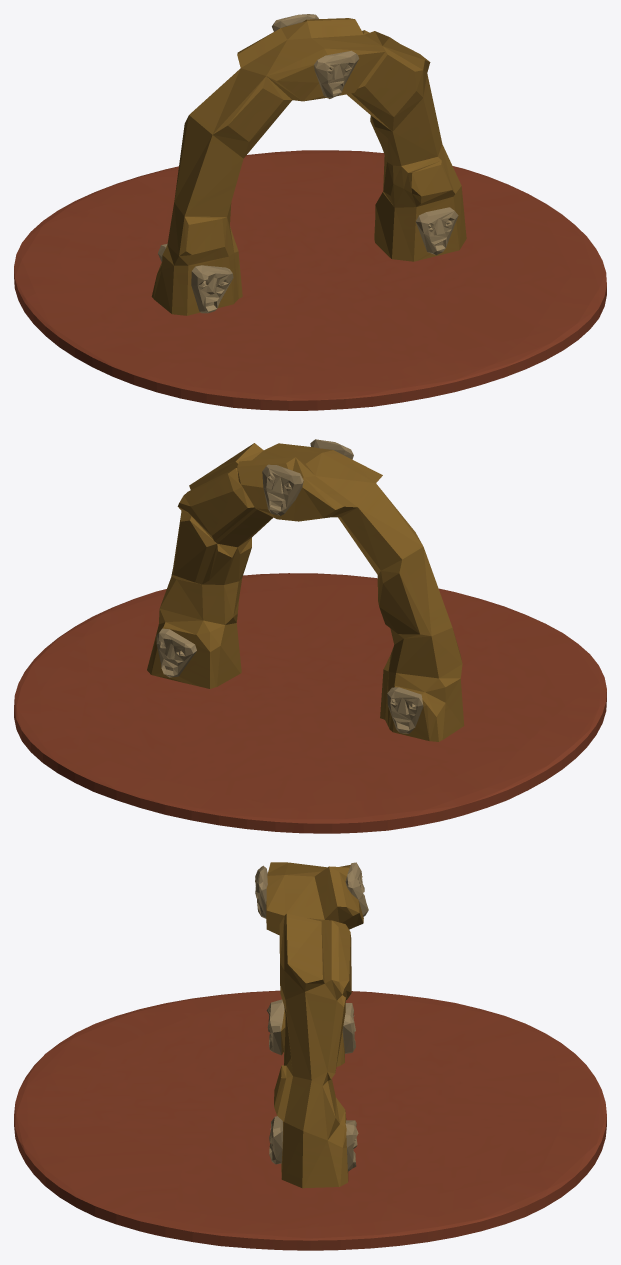
The model's file is Portal.fbx.
The picture shows the model from 3 angles, top to bottom: view 1: azimuth 30°, elevation 25°; view 2: azimuth 150°, elevation 25°; view 3: azimuth 270°, elevation 25°; orthographic projection. The views are drawn at different scales.
Visible parts, largest first — view 1: PORTAL; view 2: PORTAL; view 3: PORTAL.
Boxes of the visible parts, <box> form: PORTAL: <box>14,14,606,410</box>; PORTAL: <box>14,439,606,833</box>; PORTAL: <box>14,862,606,1250</box>.
Bounding box in the file's own units: 652 × 321 × 652.
1 material, 1 textured.
